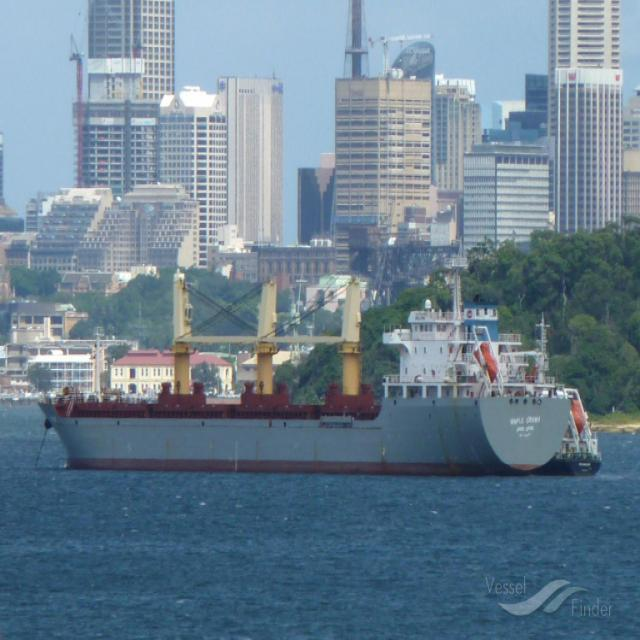OCR: (502, 410, 546, 446)
